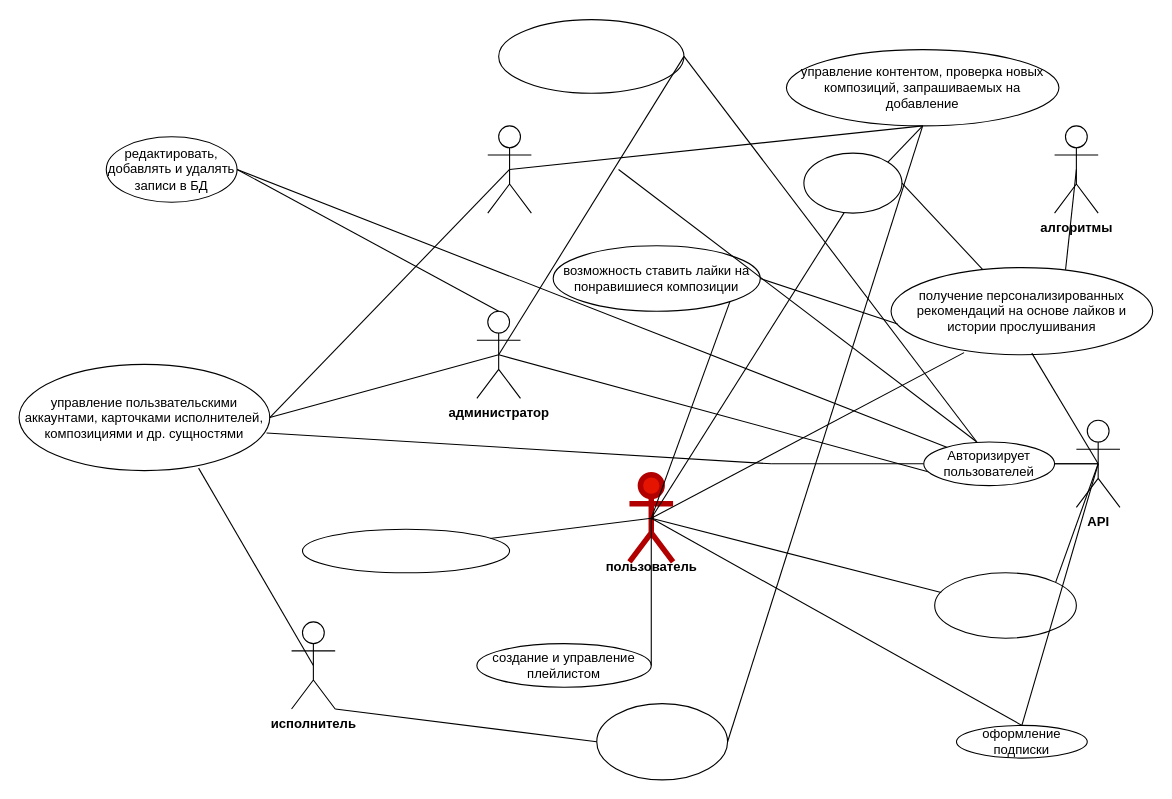
The diagram is 1172 pixels wide and 799 high, and some of its shapes have lost their labels. The centre of each missing label's shape, as x and y in pixels:
"запрос на загрузку собственных треков, альбомов" belongs at point 662,741.
"модератор" belongs at point 509,169.
"Обрабатывает запросы на чтение данных и пр." belongs at point 1005,605.
"ответсве нность за безопасность данных и настройку доступа к БД" belongs at point 591,56.
"прослушивание музыки" belongs at point 852,182.
"скачивание треков для оффлайн-доступа" belongs at point 405,550.
